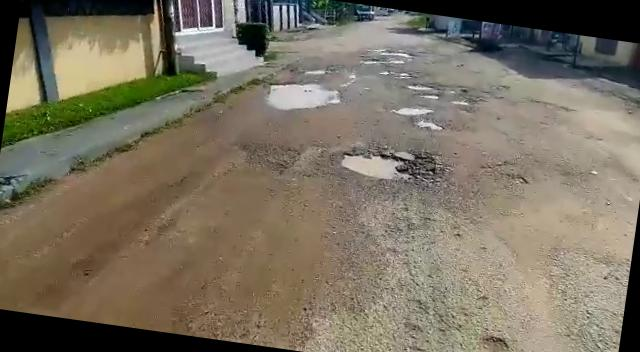pothole: (334, 141, 443, 188), (259, 74, 343, 118), (390, 101, 434, 119), (412, 117, 452, 134), (380, 68, 418, 80), (404, 80, 435, 92), (416, 92, 441, 101), (448, 98, 472, 106)
